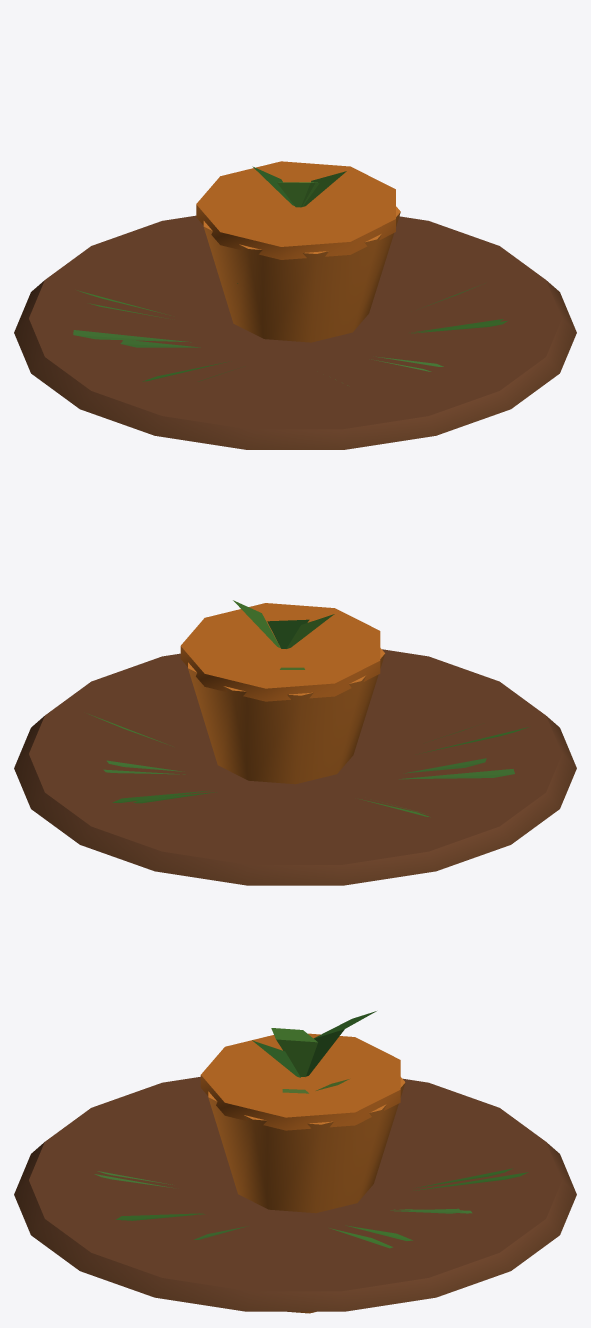
Rendered from carrot.glb.
3 renders of one model, top to bottom at view 1: azimuth 30°, elevation 25°; view 2: azimuth 150°, elevation 25°; view 3: azimuth 270°, elevation 25°, orthographic.
Parts seen in each view (by area): view 1: crop-carrot-giant, crop-carrot-giant-2; view 2: crop-carrot-giant, crop-carrot-giant-2; view 3: crop-carrot-giant, crop-carrot-giant-2.
Part boxes in pixels (x1,y1,x2,y2): crop-carrot-giant: (14,161,576,449); crop-carrot-giant-2: (77,283,503,385); crop-carrot-giant: (14,600,576,885); crop-carrot-giant-2: (89,667,486,817); crop-carrot-giant: (14,1011,576,1313); crop-carrot-giant-2: (97,1079,513,1240).
Bounding box in the file's own units: 5.61 × 3.79 × 5.7.
